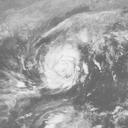cyclone: (34, 35, 90, 93)
